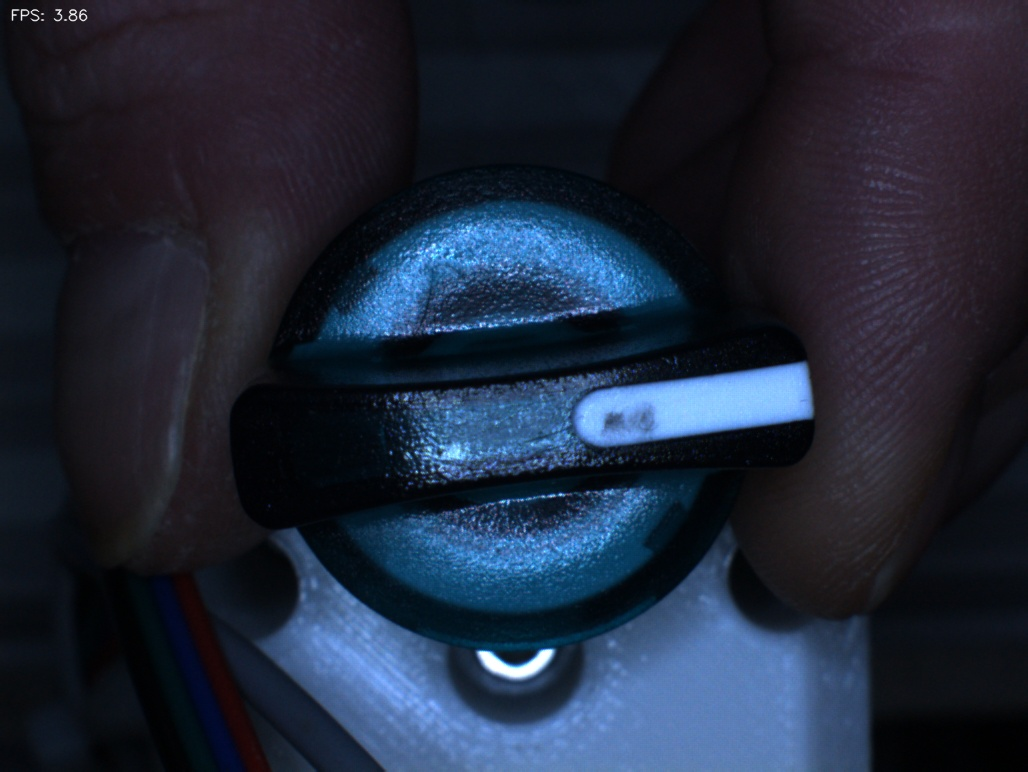PointNoir: (569, 371, 675, 477)
